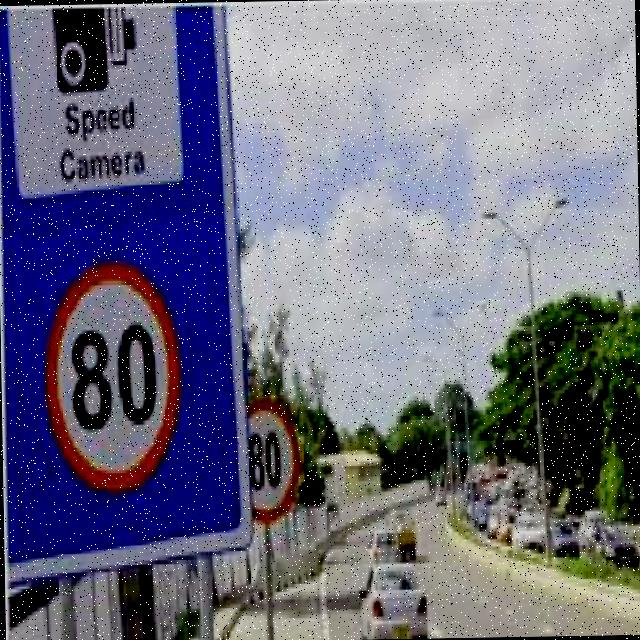Ograniczenie predkosci do 80: (240, 402, 302, 525)
